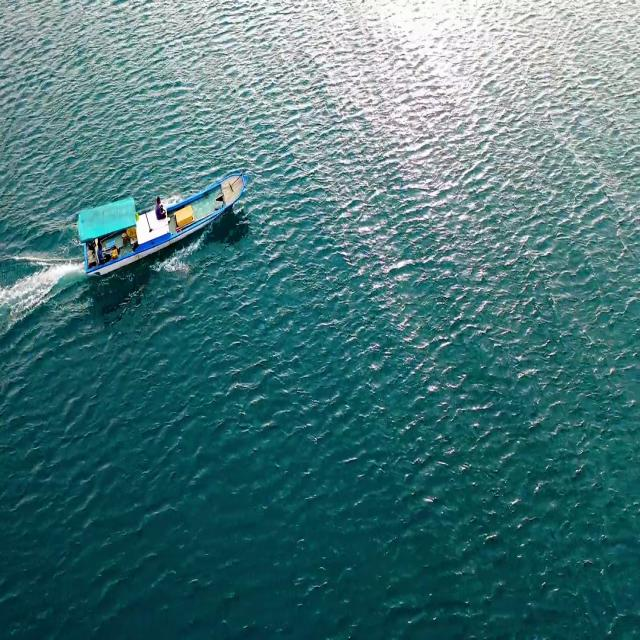ship: (74, 159, 248, 293)
